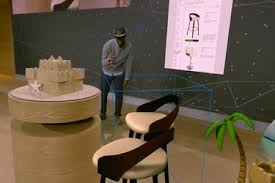hololens: (111, 24, 128, 40)
